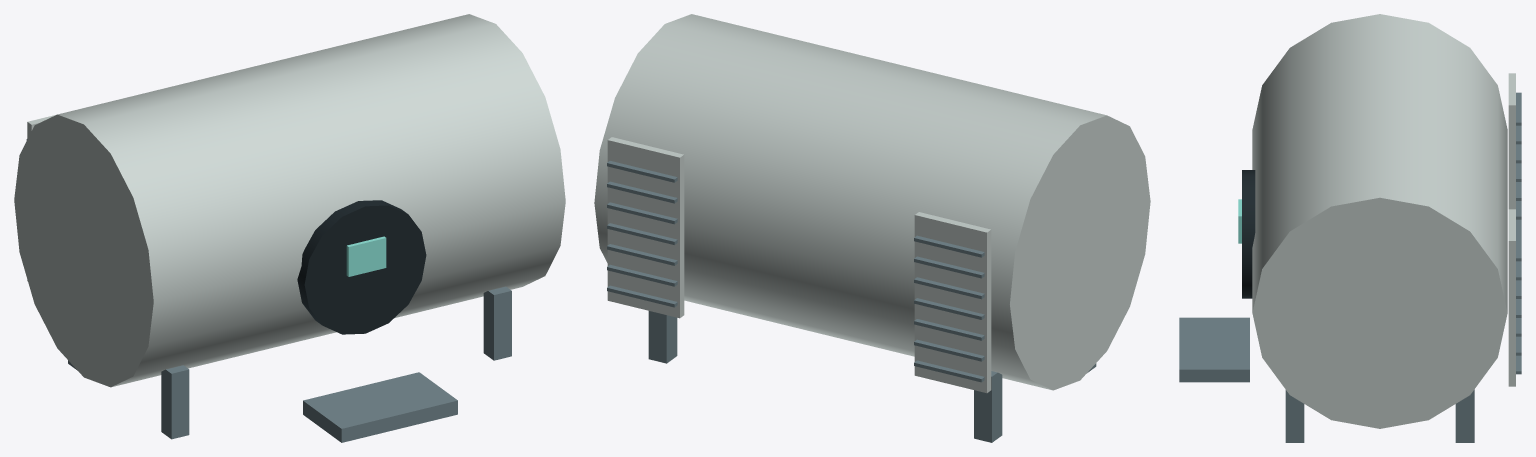
Rendered from lunar-habitat.glb.
3 views of the same model, side by side, from view 1: azimuth 30°, elevation 25°; view 2: azimuth 150°, elevation 25°; view 3: azimuth 270°, elevation 25° (orthographic). The views are drawn at different scales.
Visible parts, largest first — view 1: pressure_hull, airlock_hatch, airlock_step, landing_leg (×2), hatch_window; view 2: pressure_hull, radiator (×2), landing_leg (×2); view 3: pressure_hull, airlock_step, radiator (×2), landing_leg (×2), airlock_hatch.
Boxes of the visible parts, x1,y1,x2,y2 form: pressure_hull: [14, 14, 565, 387]; airlock_hatch: [297, 200, 426, 334]; airlock_step: [303, 372, 457, 442]; landing_leg (×2): [161, 286, 511, 439]; hatch_window: [346, 236, 386, 276]; pressure_hull: [594, 14, 1150, 390]; radiator (×2): [607, 137, 991, 393]; landing_leg (×2): [648, 311, 1002, 442]; pressure_hull: [1252, 14, 1507, 428]; airlock_step: [1179, 317, 1249, 382]; radiator (×2): [1508, 73, 1515, 386]; landing_leg (×2): [1285, 389, 1474, 442]; airlock_hatch: [1242, 170, 1255, 298].
Bounding box in the file's own units: 4.6 × 3.05 × 3.63.
